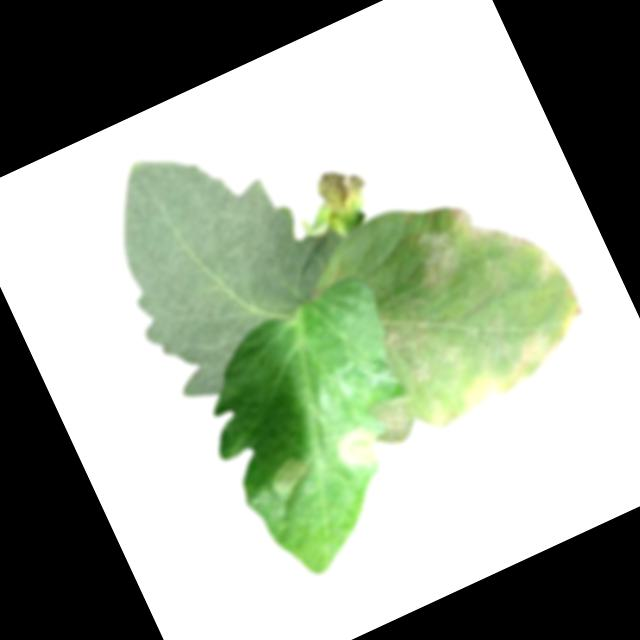Late_blight: (300, 174, 605, 458), (309, 155, 374, 221), (329, 420, 386, 476), (265, 450, 319, 501)
